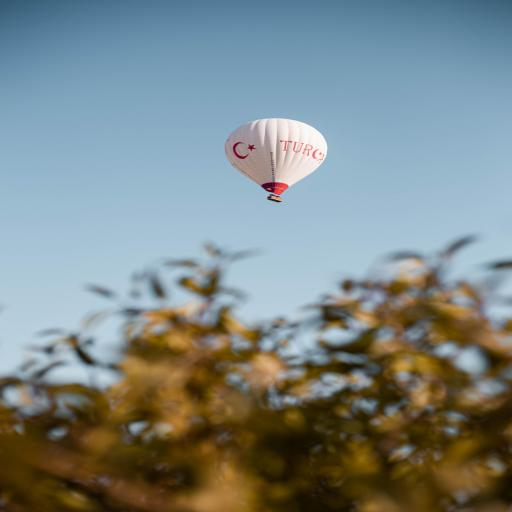hot air ballon: (216, 116, 334, 205)
